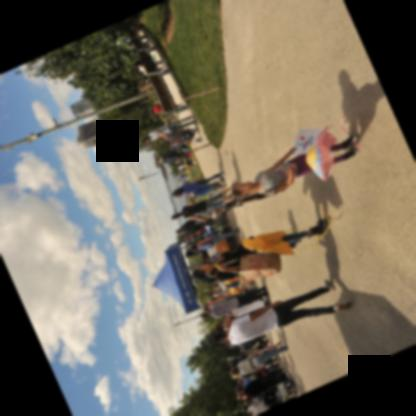handbag: (238, 252, 281, 283)
